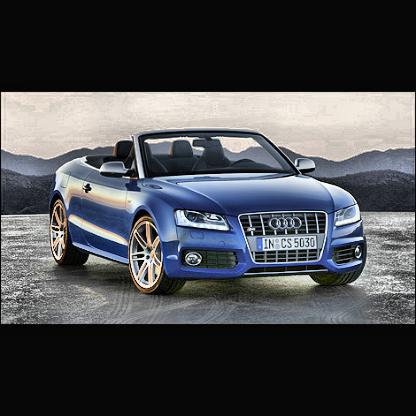Audi S5 Convertible 2012: (53, 131, 367, 292)
